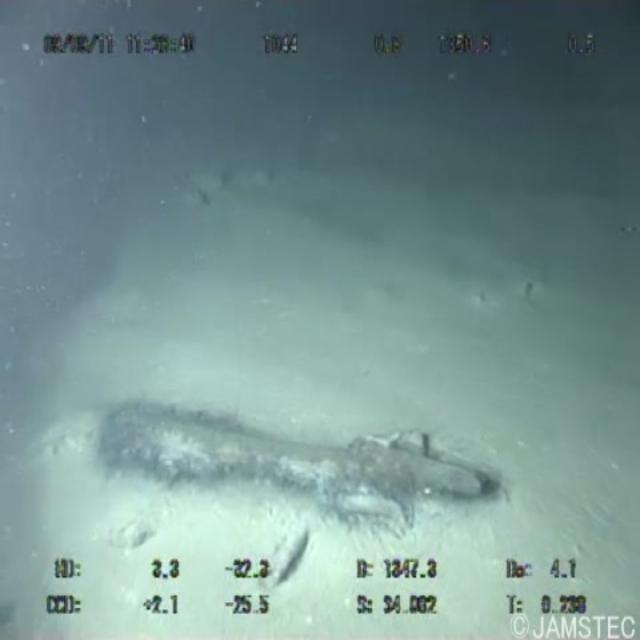Wood: (99, 356, 493, 554)
